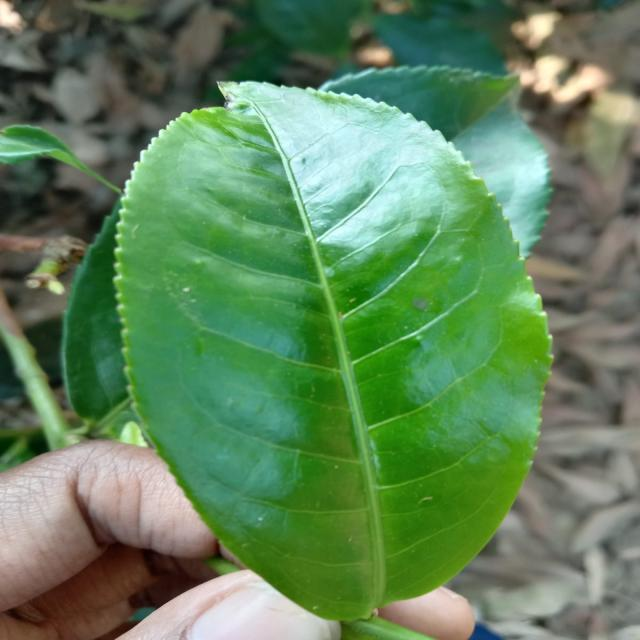Category B 2-4 days: (92, 62, 569, 623)
